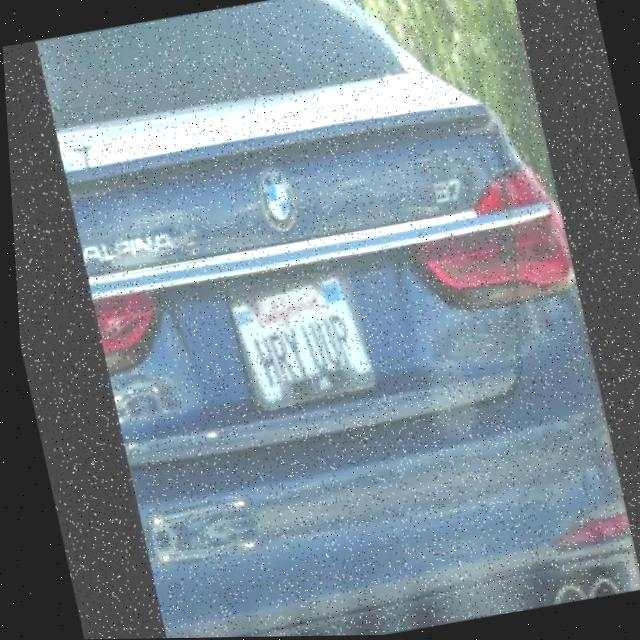LicensePlate: (224, 268, 372, 413)
